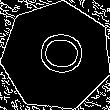O_W: (28, 32, 85, 81)
